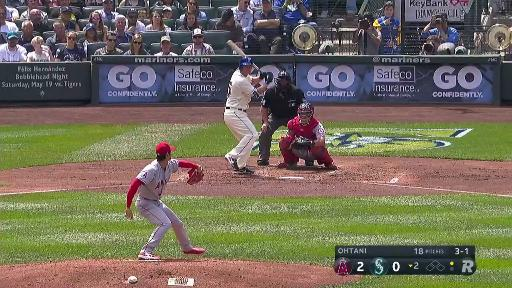pitcher: (123, 142, 212, 258)
